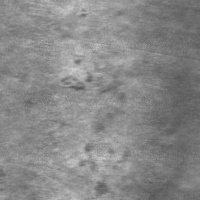rolled-in_scale: (61, 56, 128, 200)
